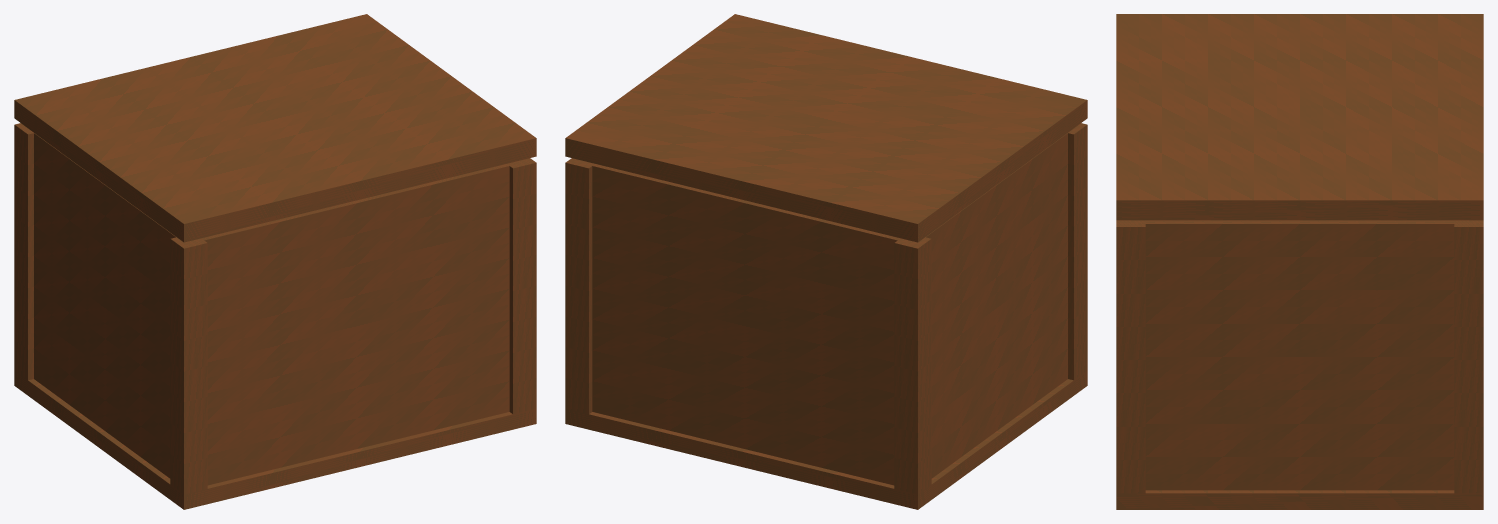
File: shed_01.glb
3 renders of one model, left to right at view 1: azimuth 30°, elevation 25°; view 2: azimuth 150°, elevation 25°; view 3: azimuth 270°, elevation 25°, orthographic. The views are drawn at different scales.
Parts seen in each view (by area): view 1: shed_01_lod0; view 2: shed_01_lod0; view 3: shed_01_lod0.
Boxes of the visible parts, box(x1,y1,x2,y2) form: shed_01_lod0: box(14, 14, 536, 509); shed_01_lod0: box(565, 14, 1087, 509); shed_01_lod0: box(1116, 14, 1483, 509).
Bounding box in the file's own units: 1.2 × 0.93 × 1.
Materials: 1 (1 with a texture image).
